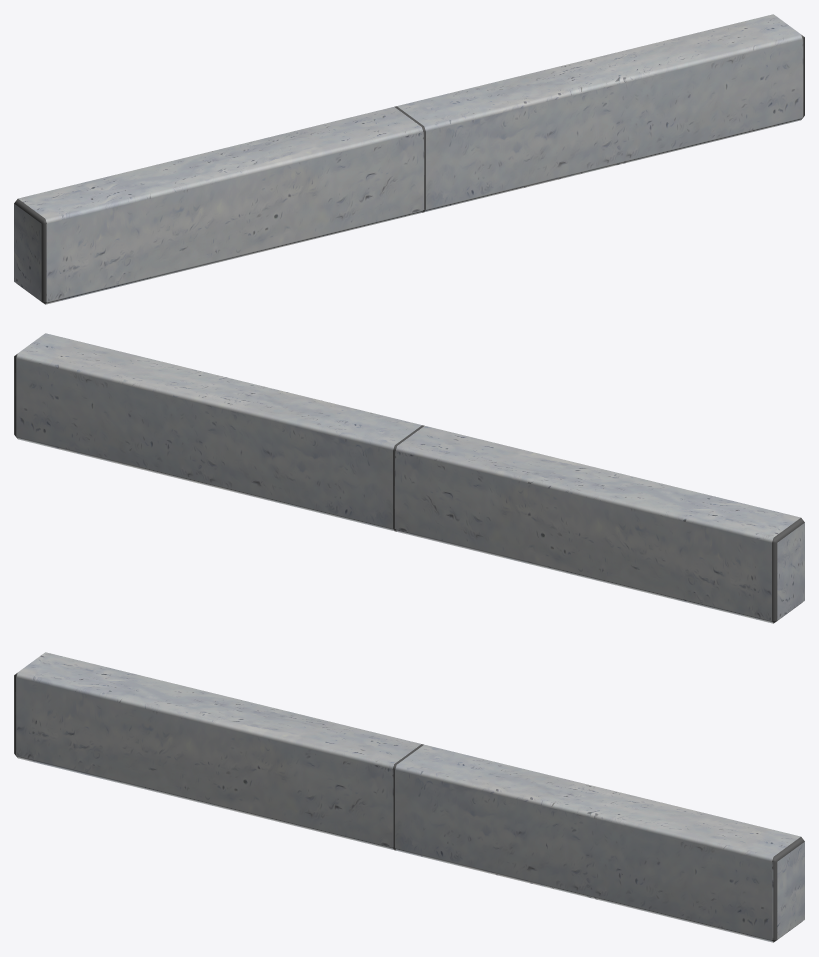
Rendered from SideWalk.fbx.
3 views of the same model, one above another, from view 1: azimuth 30°, elevation 25°; view 2: azimuth 150°, elevation 25°; view 3: azimuth 330°, elevation 25° (orthographic).
Parts seen in each view (by area): view 1: SideWalk; view 2: SideWalk; view 3: SideWalk.
Boxes of the visible parts, x1,y1,x2,y2 form: SideWalk: (14,14,804,304); SideWalk: (14,333,804,623); SideWalk: (14,652,804,942).
Bounding box in the file's own units: 447 × 48.16 × 31.15.
1 material, 1 textured.
